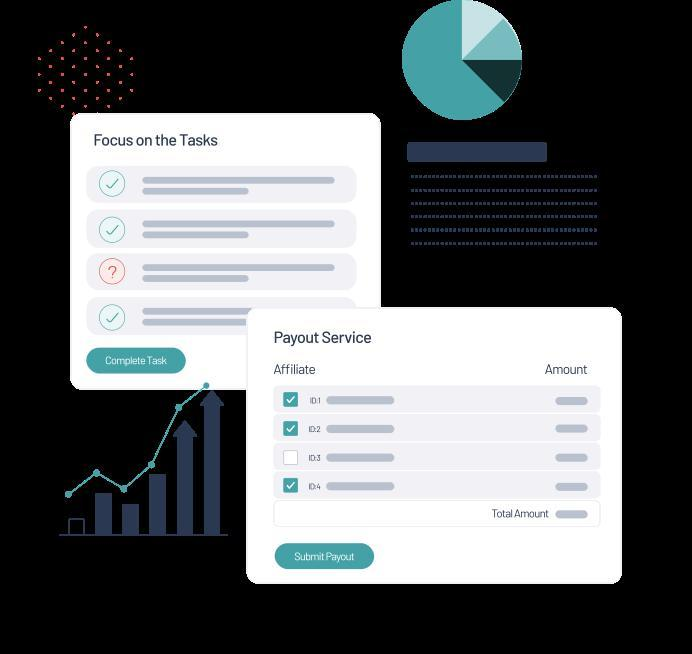button: (275, 544, 377, 571), (87, 348, 187, 375)
checkbox: (98, 304, 128, 333), (97, 218, 129, 245), (98, 171, 127, 199), (284, 421, 299, 438), (284, 394, 299, 408), (284, 451, 299, 465), (285, 479, 299, 493)
